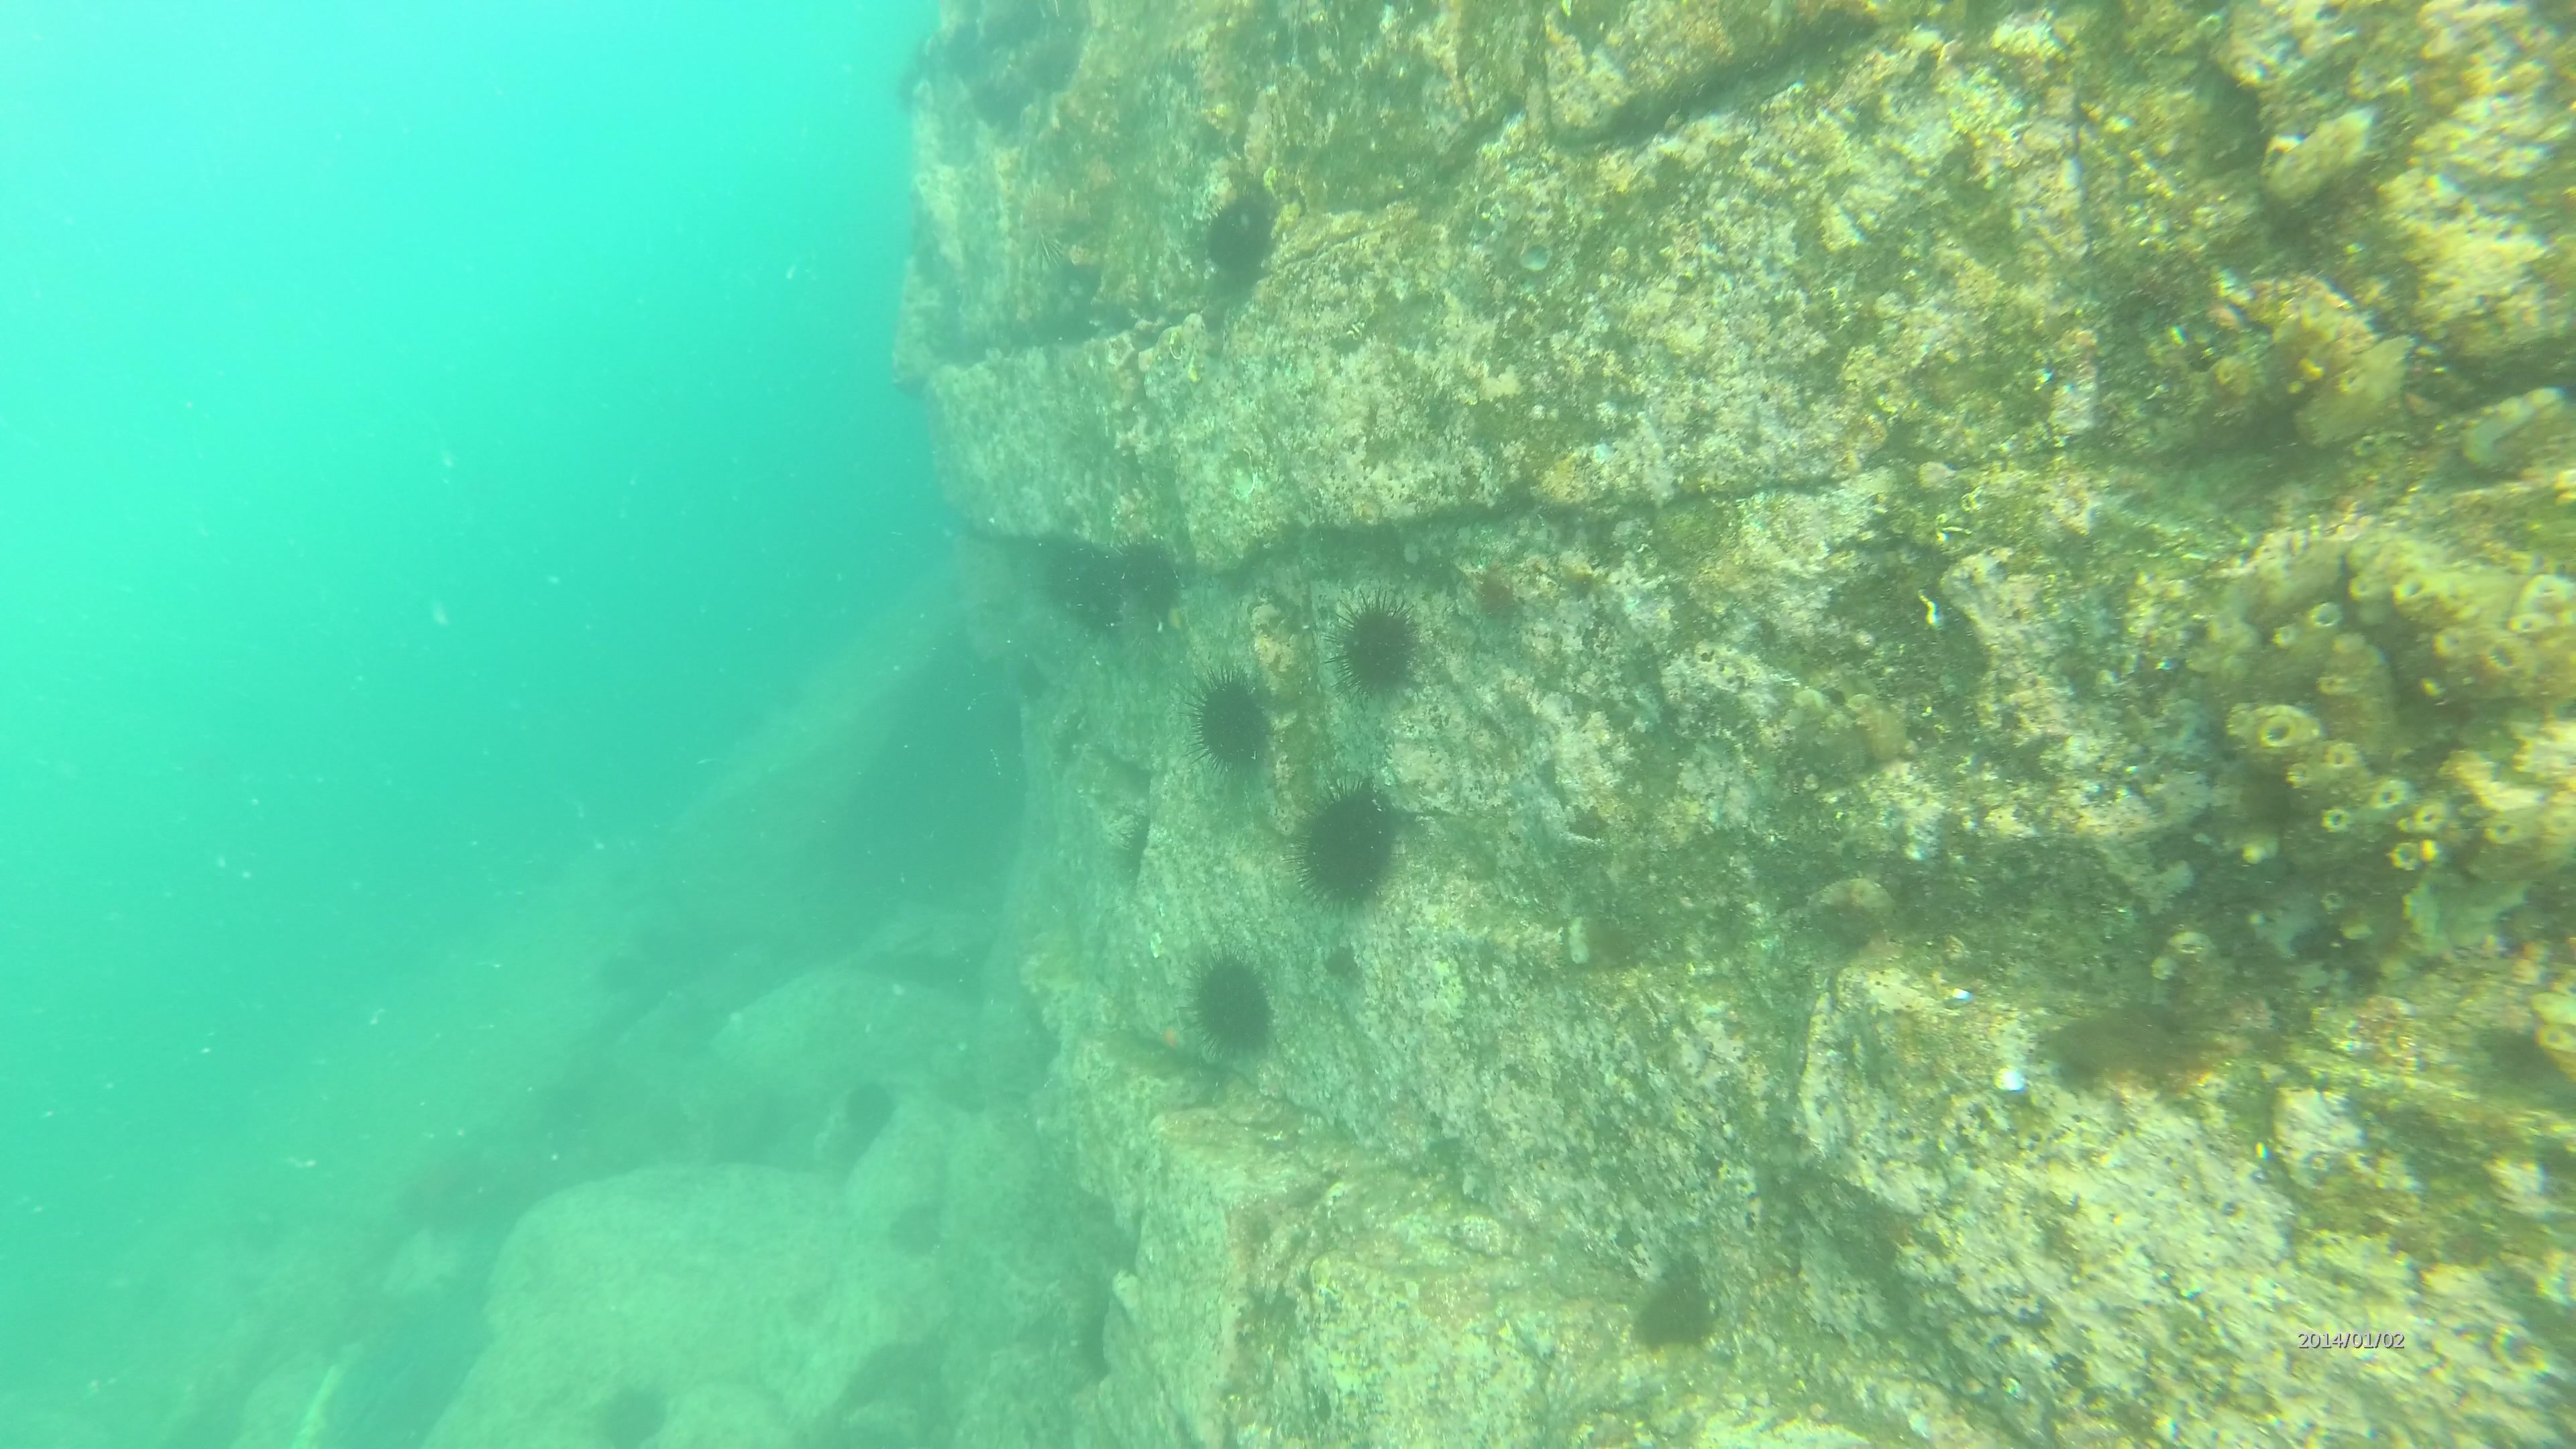echinus: (1293, 778, 1401, 913), (1180, 955, 1300, 1069), (1329, 596, 1430, 715), (1184, 665, 1281, 771), (1191, 191, 1283, 281), (1111, 531, 1184, 609)
